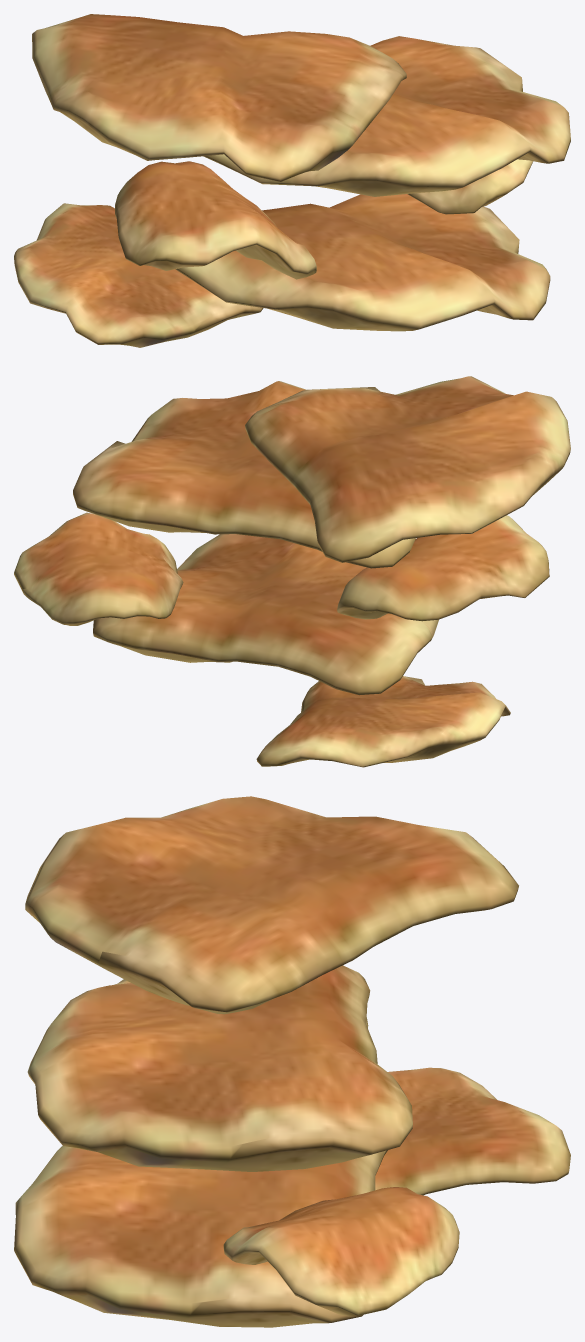
File: Mushroom_Laetiporus.glb
The picture shows the model from 3 angles, top to bottom: view 1: azimuth 30°, elevation 25°; view 2: azimuth 150°, elevation 25°; view 3: azimuth 270°, elevation 25°; orthographic projection. The views are drawn at different scales.
Visible parts, largest first — view 1: Mushroom_Laetiporus; view 2: Mushroom_Laetiporus; view 3: Mushroom_Laetiporus.
Part boxes in pixels (box(x1,y1,x2,y2)): Mushroom_Laetiporus: box(14, 14, 570, 347); Mushroom_Laetiporus: box(14, 376, 570, 767); Mushroom_Laetiporus: box(14, 796, 570, 1327).
Bounding box in the file's own units: 1.37 × 0.767 × 1.1.
Materials: 1 (1 with a texture image).
